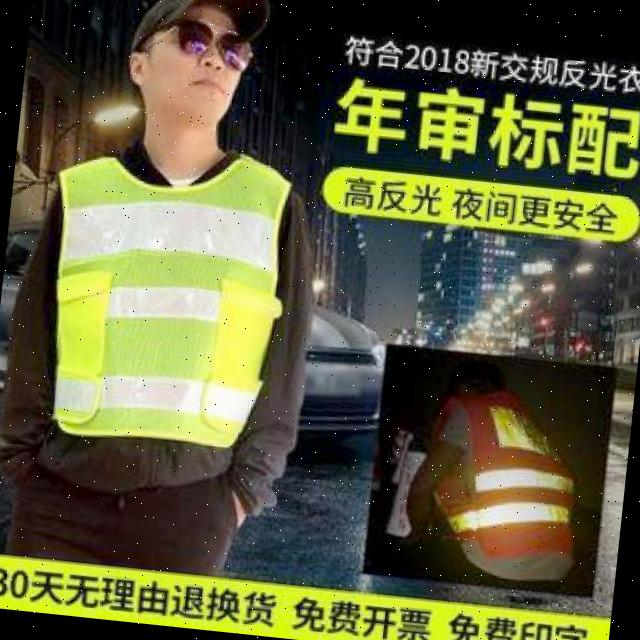vest: (38, 147, 288, 450), (445, 398, 596, 572)
